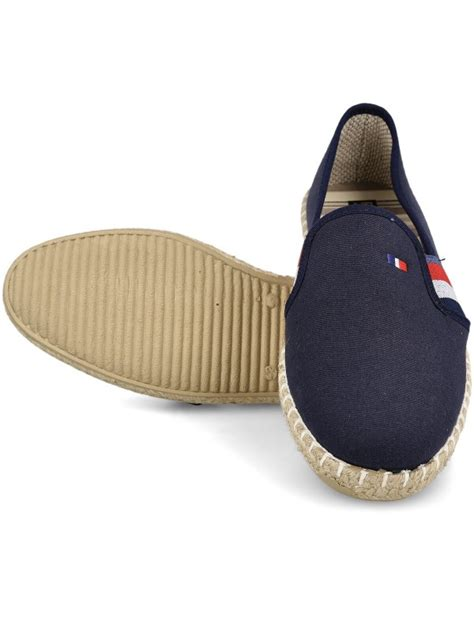nylon: (285, 100, 470, 474)
